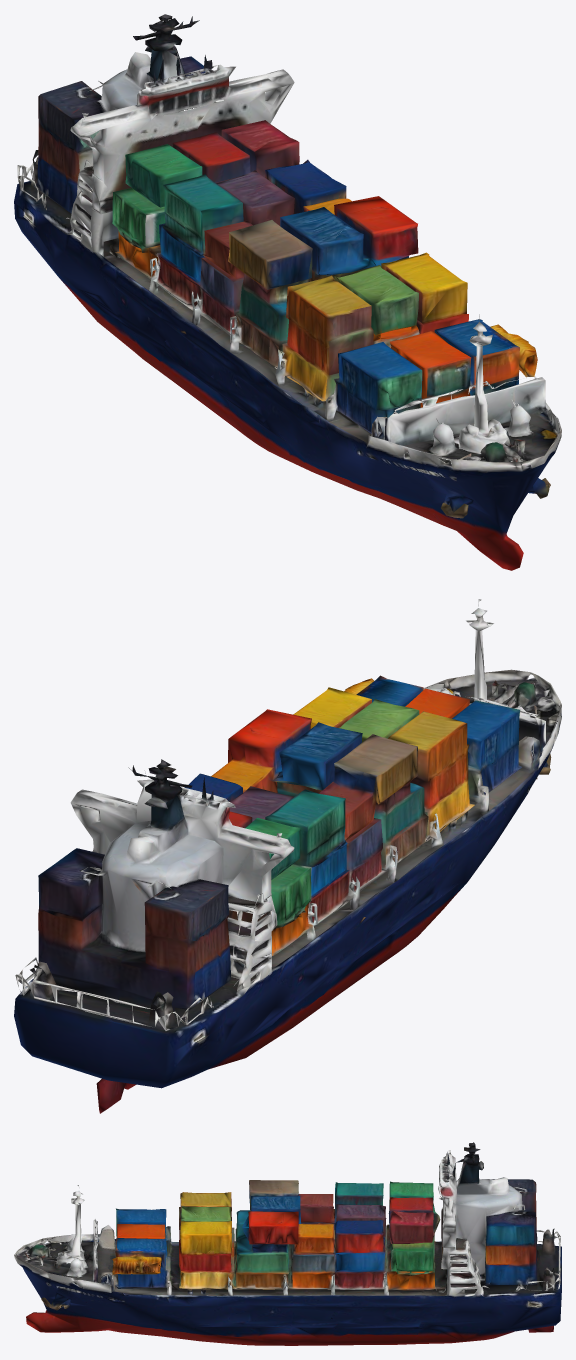
Rendered from ship_container.glb.
3 views of the same model, one above another, from view 1: azimuth 30°, elevation 25°; view 2: azimuth 150°, elevation 25°; view 3: azimuth 270°, elevation 25° (orthographic). The views are drawn at different scales.
Parts seen in each view (by area): view 1: tripo_node_4a8bf454-e8d5-43d1-aad2-de2d0bf265e0; view 2: tripo_node_4a8bf454-e8d5-43d1-aad2-de2d0bf265e0; view 3: tripo_node_4a8bf454-e8d5-43d1-aad2-de2d0bf265e0.
Part boxes in pixels (left/top/right/bottom): tripo_node_4a8bf454-e8d5-43d1-aad2-de2d0bf265e0: left=14, top=14, right=561, bottom=570; tripo_node_4a8bf454-e8d5-43d1-aad2-de2d0bf265e0: left=14, top=599, right=561, bottom=1113; tripo_node_4a8bf454-e8d5-43d1-aad2-de2d0bf265e0: left=14, top=1142, right=561, bottom=1345.
Bounding box in the file's own units: 0.2765 × 0.3751 × 0.9797.
1 material, 1 textured.
